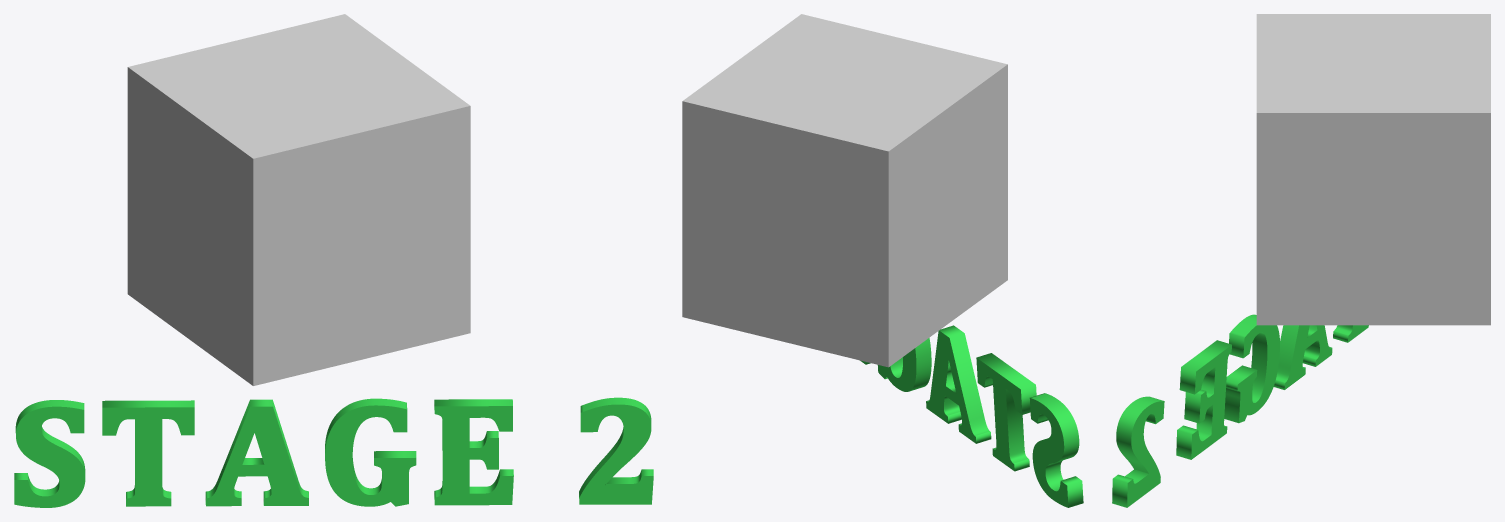
File: Stage2.glb
3 renders of one model, left to right at view 1: azimuth 30°, elevation 25°; view 2: azimuth 150°, elevation 25°; view 3: azimuth 270°, elevation 25°, orthographic. The views are drawn at different scales.
Parts seen in each view (by area): view 1: Cube, Text; view 2: Cube, Text; view 3: Cube, Text.
Boxes of the visible parts, bbox=[...] form: Cube: bbox=[127, 14, 470, 385]; Text: bbox=[14, 397, 653, 507]; Cube: bbox=[682, 14, 1007, 367]; Text: bbox=[860, 325, 1083, 507]; Cube: bbox=[1256, 14, 1490, 325]; Text: bbox=[1112, 314, 1368, 507].
Size of the model in its own units: 4.52 by 3.25 by 3.23.
